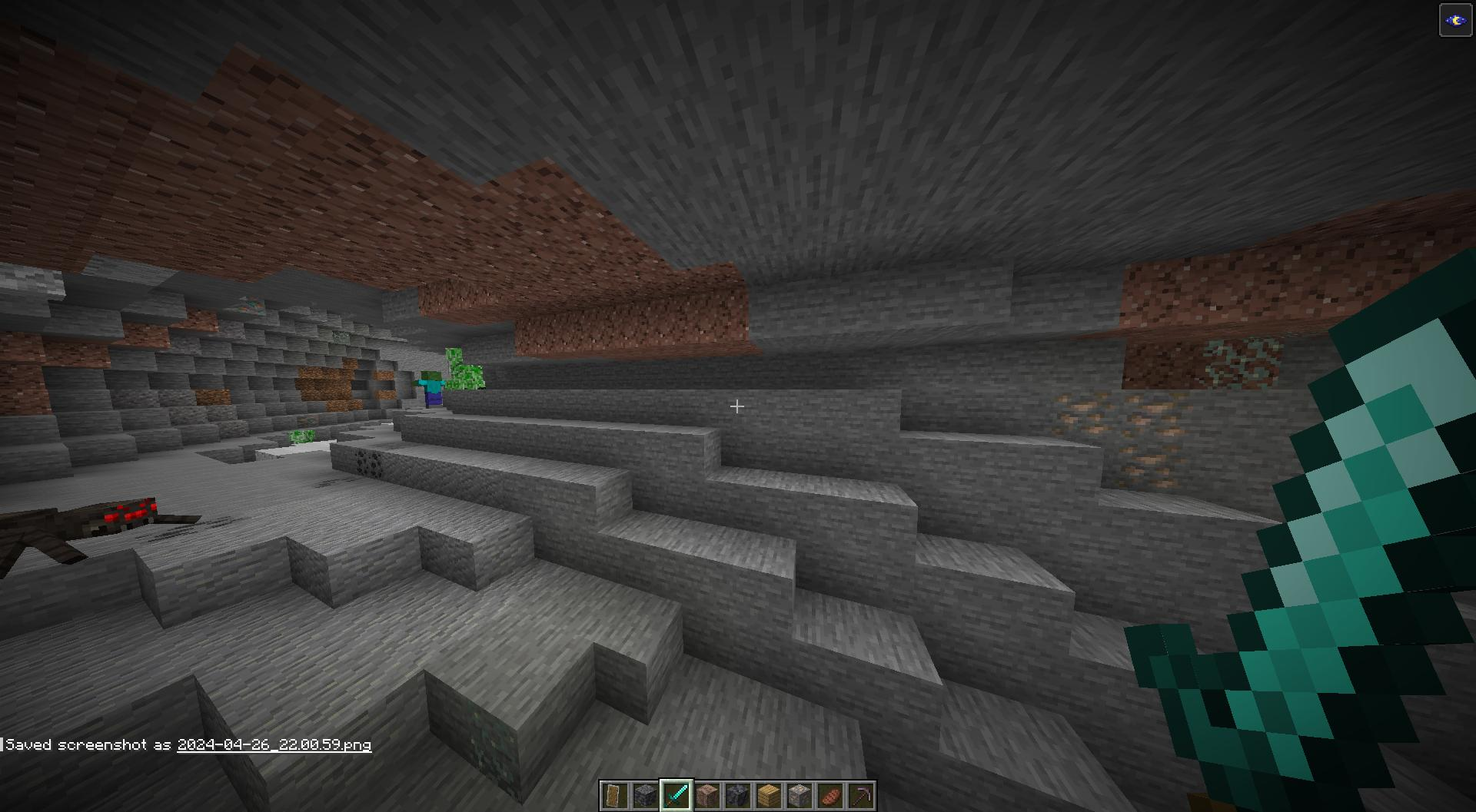iron ore: (1107, 389, 1187, 448), (1111, 432, 1179, 500), (1044, 386, 1112, 444)
